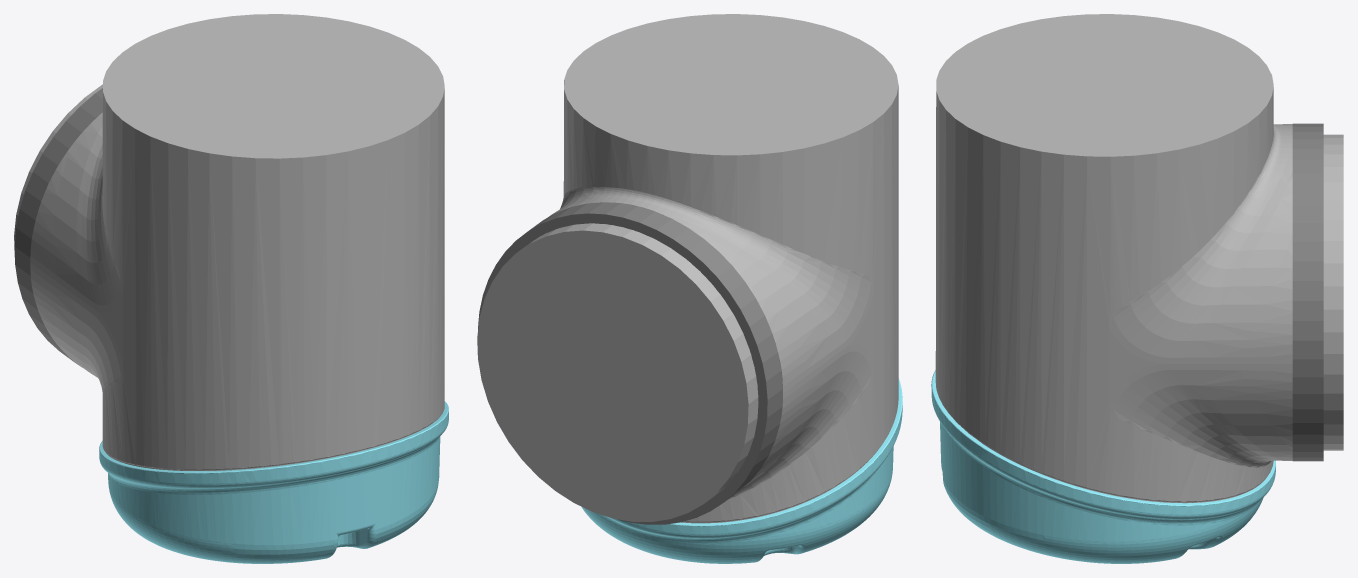
The model's file is UR3eLink5.dae.
3 views of the same model, side by side, from view 1: azimuth 30°, elevation 25°; view 2: azimuth 150°, elevation 25°; view 3: azimuth 270°, elevation 25° (orthographic). The views are drawn at different scales.
Visible parts, largest first — view 1: UR3eLink5; view 2: UR3eLink5; view 3: UR3eLink5.
Part boxes in pixels (<box>): UR3eLink5: <box>14,14,448,563</box>; UR3eLink5: <box>477,14,902,563</box>; UR3eLink5: <box>931,14,1343,563</box>.
Size of the model in its own units: 0.0644 by 0.0768 by 0.0887.
